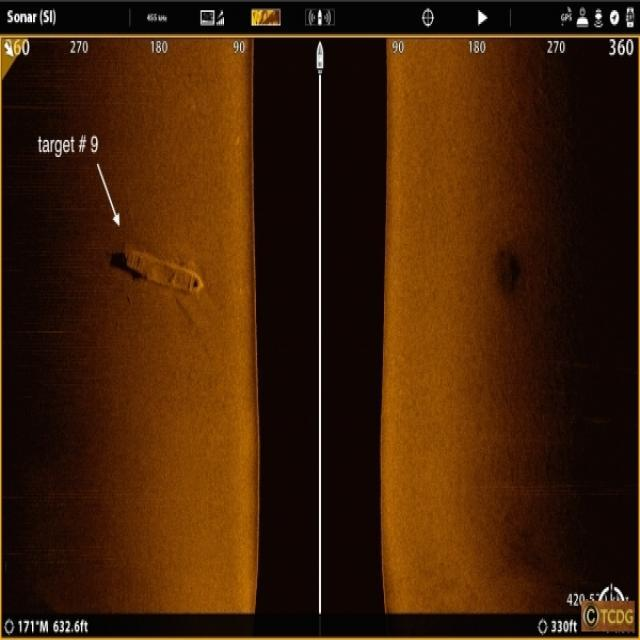shipwreck: (119, 240, 204, 300)
